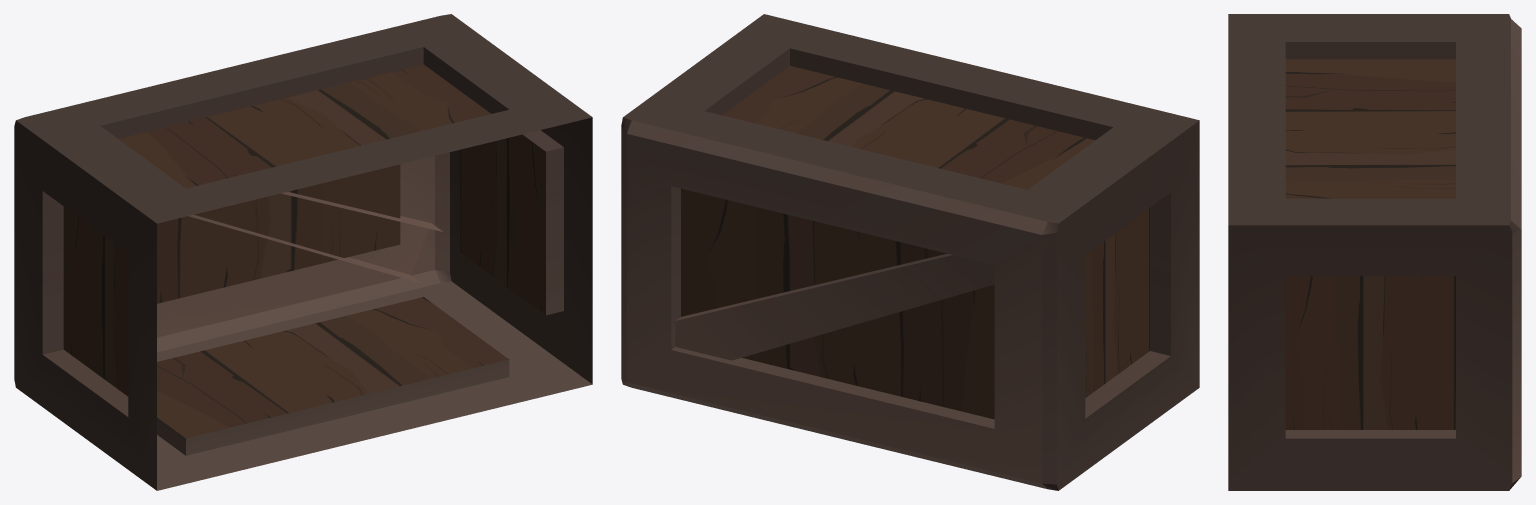
Rendered from Crate 01.FBX.
3 views of the same model, side by side, from view 1: azimuth 30°, elevation 25°; view 2: azimuth 150°, elevation 25°; view 3: azimuth 270°, elevation 25° (orthographic).
Visible parts, largest first — view 1: Crate 01; view 2: Crate 01; view 3: Crate 01.
Boxes of the visible parts, left/top/right/bottom form: Crate 01: left=14, top=14, right=592, bottom=490; Crate 01: left=621, top=14, right=1199, bottom=490; Crate 01: left=1228, top=14, right=1521, bottom=490.
Size of the model in its own units: 63.13 by 37.01 by 37.
